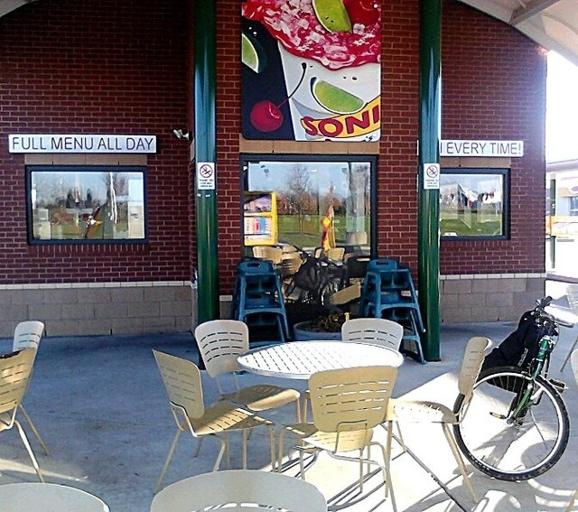non-vehicle: (450, 295, 573, 481), (279, 244, 349, 308)
